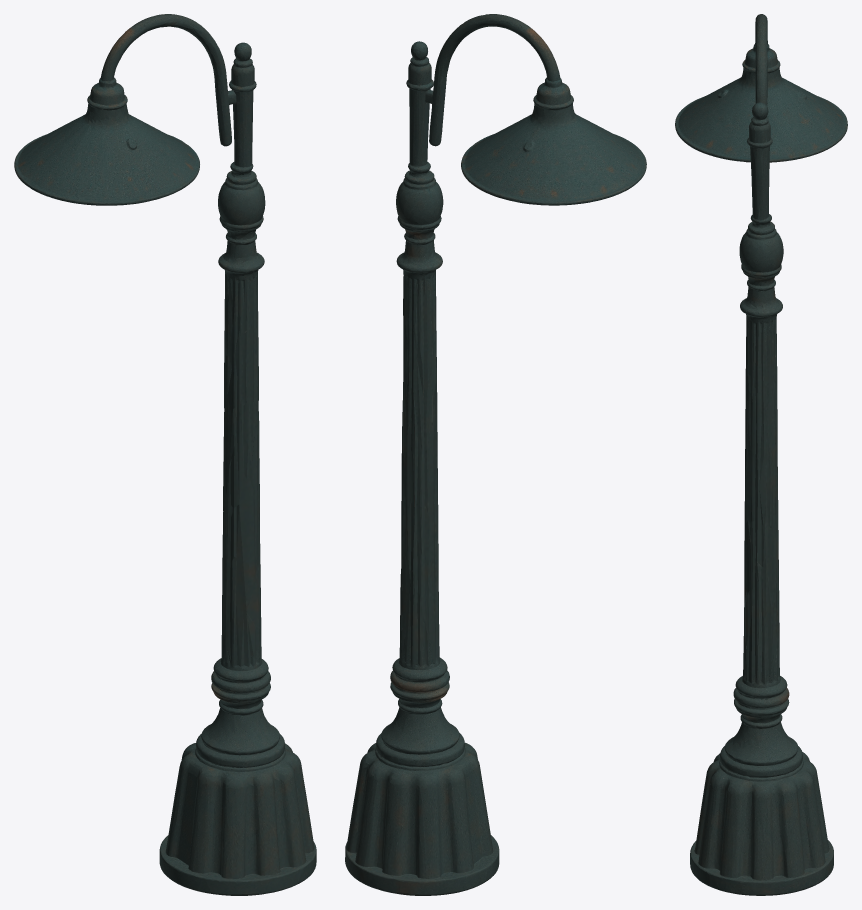
The model's file is street_lamp.glb.
The picture shows the model from 3 angles, left to right: view 1: azimuth 30°, elevation 25°; view 2: azimuth 150°, elevation 25°; view 3: azimuth 270°, elevation 25°; orthographic projection. The views are drawn at different scales.
Size of the model in its own units: 0.6397 by 1.9 by 0.3683.
1 material, 1 textured.
